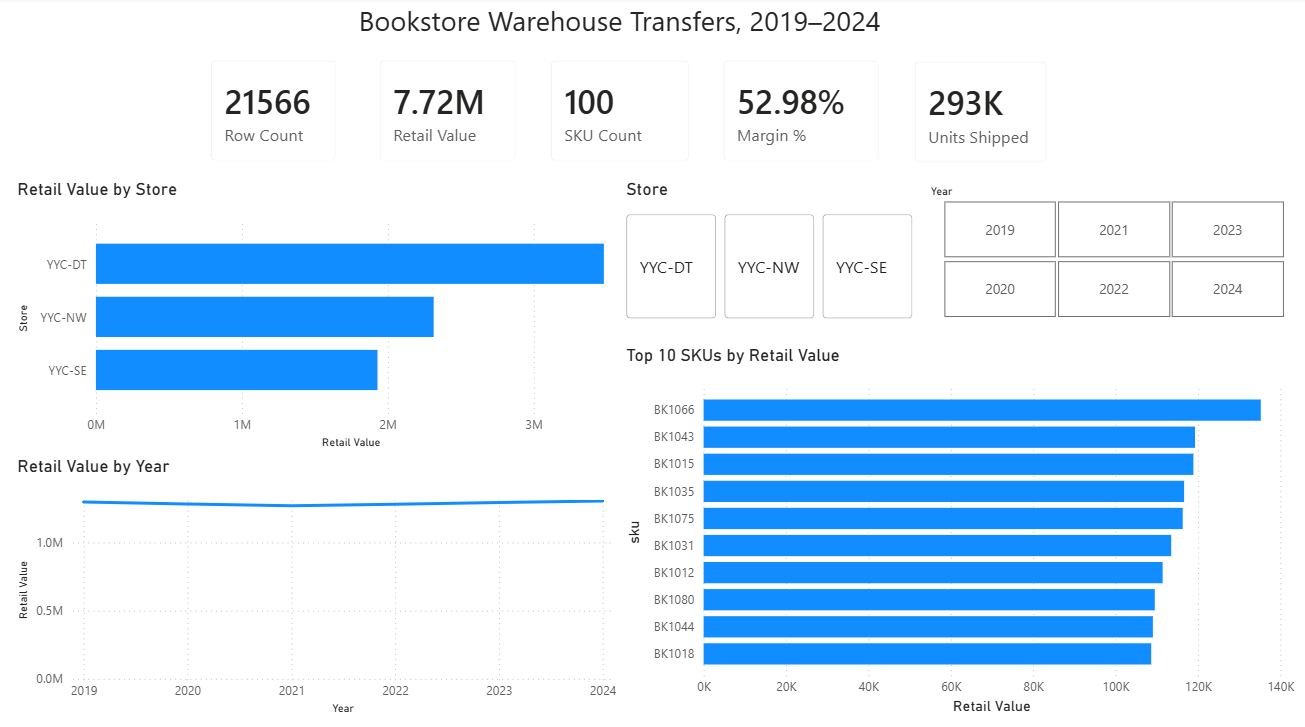

What the dashboard file says about the page in this screenshot:
{"tool":"powerbi","page":{"name":"Page 1","canvas":[1280,720],"ordinal":0},"visuals":[{"type":"cardVisual","fields":{"Data":["bookstore_inventory.Row Count"]},"box":[189.6,45.1,156.9,132.1],"z":0},{"type":"cardVisual","fields":{"Data":["bookstore_inventory.Retail Value"]},"box":[354.3,45.1,167.8,132.1],"z":1000},{"type":"cardVisual","fields":{"Data":["bookstore_inventory.Margin %"]},"box":[691.4,45.1,186.5,132.1],"z":2000},{"type":"cardVisual","fields":{"Data":["bookstore_inventory.SKU Count"]},"box":[522.1,45.1,169.4,132.1],"z":3000},{"type":"clusteredBarChart","fields":{"Category":["bookstore_inventory.Store"],"Y":["bookstore_inventory.Retail Value"]},"box":[12.2,177.3,595.5,269],"z":4000},{"type":"lineChart","fields":{"Category":["bookstore_inventory.month.Variation.Date Hierarchy.Year","bookstore_inventory.month.Variation.Date Hierarchy.Quarter","bookstore_inventory.month.Variation.Date Hierarchy.Month","bookstore_inventory.month.Variation.Date Hierarchy.Day"],"Y":["bookstore_inventory.Retail Value"]},"box":[12.2,448.8,595.5,258],"z":5000},{"type":"advancedSlicerVisual","fields":{"Values":["bookstore_inventory.Store"]},"box":[607.5,177.1,290.6,142.9],"z":6000},{"type":"slicer","fields":{"Values":["bookstore_inventory.Year"]},"box":[898.1,178.7,382.2,141.4],"z":7000},{"type":"cardVisual","fields":{"Data":["bookstore_inventory.Units Shipped"]},"box":[877.9,46.6,163.1,132.1],"z":8000},{"type":"clusteredBarChart","title":"Top 10 SKUs by Retail Value","fields":{"Category":["bookstore_inventory.sku"],"Y":["bookstore_inventory.Retail Value"]},"box":[607.7,339.9,664,366.8],"z":9000},{"type":"textbox","box":[346.5,0,522.1,45.1],"z":10000}]}

Visuals, with their boxes in screenshot pixels (x1, y1, x2, y2), scaled from the page's 1280x720 canvas onto the 1305x727 screenshot:
cardVisual - bookstore_inventory.Row Count: detection(193, 46, 353, 179)
cardVisual - bookstore_inventory.Retail Value: detection(361, 46, 532, 179)
cardVisual - bookstore_inventory.Margin %: detection(705, 46, 895, 179)
cardVisual - bookstore_inventory.SKU Count: detection(532, 46, 705, 179)
clusteredBarChart - bookstore_inventory.Store x bookstore_inventory.Retail Value: detection(12, 179, 620, 451)
lineChart - bookstore_inventory.month.Variation.Date Hierarchy.Year x bookstore_inventory.month.Variation.Date Hierarchy.Quarter: detection(12, 453, 620, 714)
advancedSlicerVisual - bookstore_inventory.Store: detection(619, 179, 916, 323)
slicer - bookstore_inventory.Year: detection(916, 180, 1304, 323)
cardVisual - bookstore_inventory.Units Shipped: detection(895, 47, 1061, 180)
"Top 10 SKUs by Retail Value" clusteredBarChart: detection(620, 343, 1297, 714)
textbox: detection(353, 0, 886, 46)
